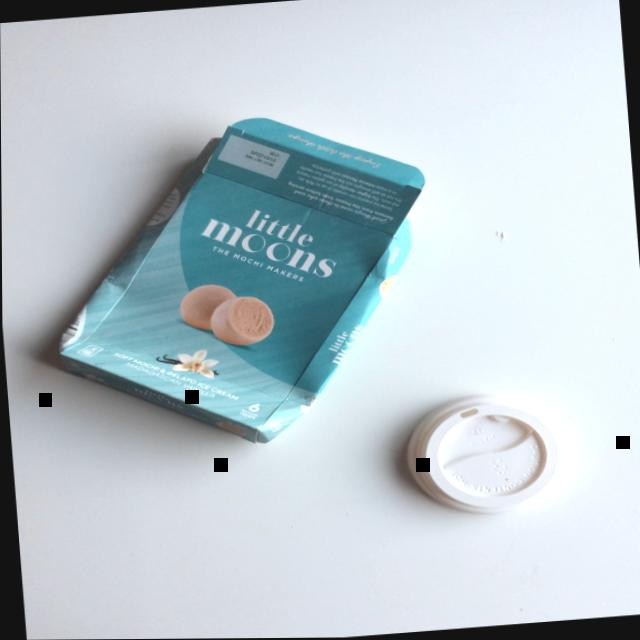Other carton: (58, 117, 425, 442)
Plastic lid: (406, 392, 572, 514)
